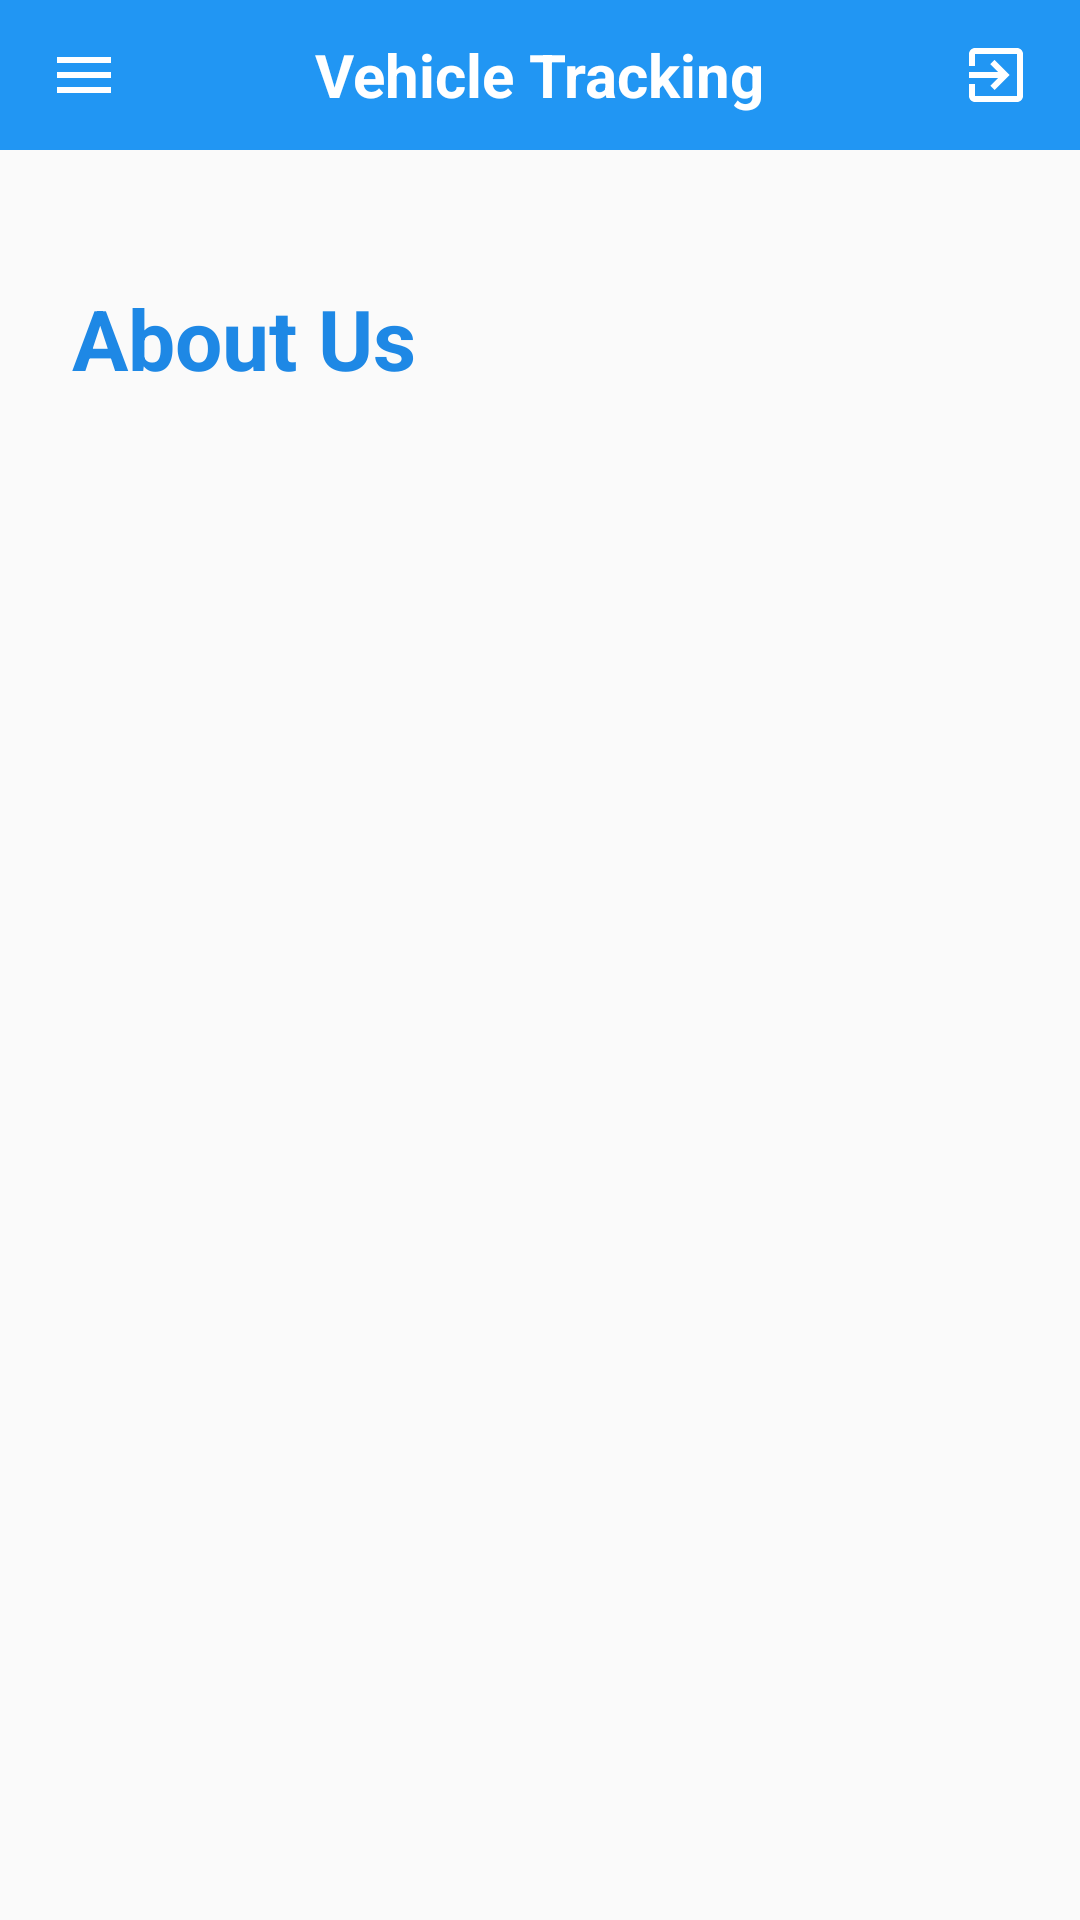

Screen size 1080x1920. Icon name, then its box in pixels as (x1, y1, x2, y2):
menu: (57, 57, 111, 93)
